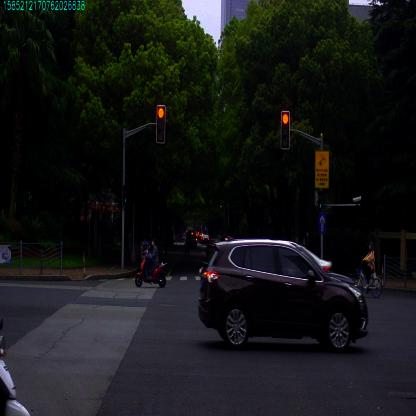traffic-light: (157, 106, 165, 142), (281, 113, 289, 149)
